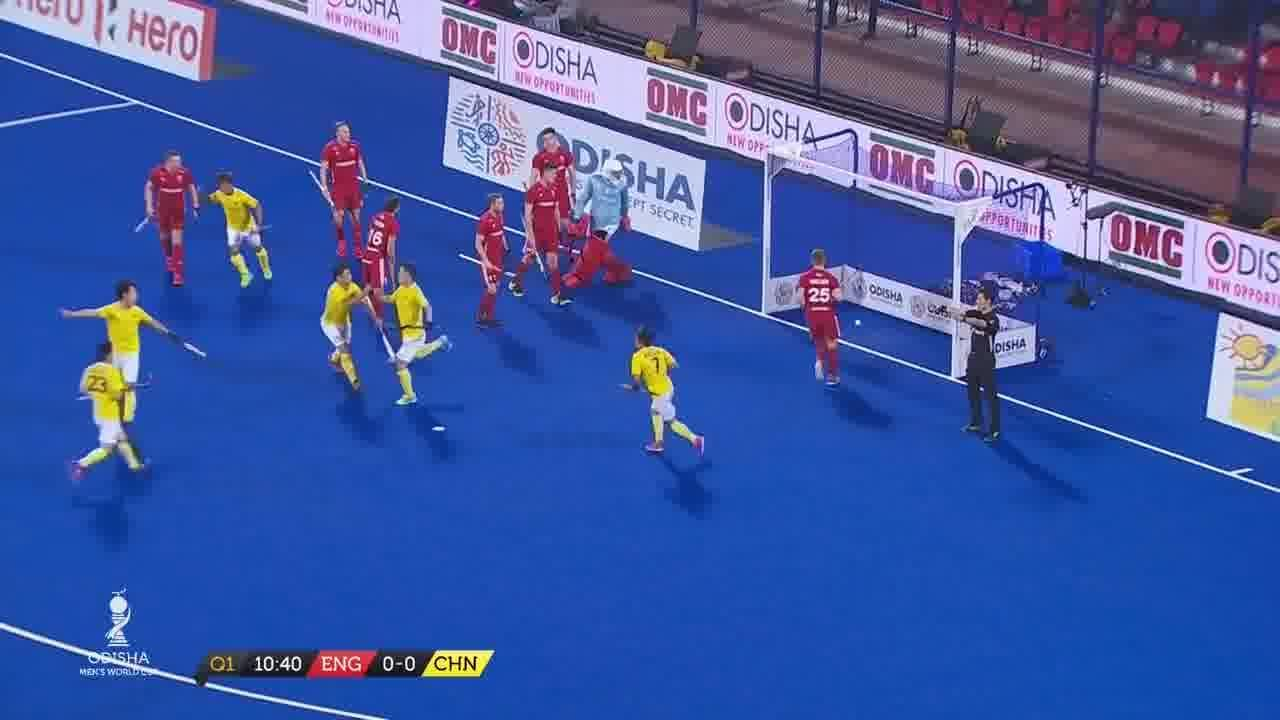ball: (884, 321, 900, 335)
